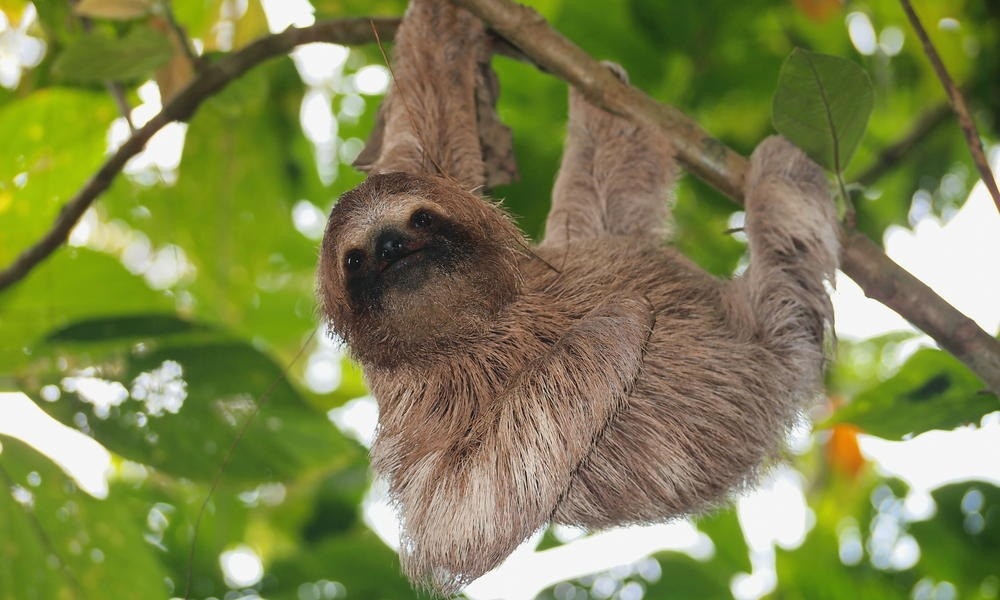sloth: (311, 3, 851, 594)
